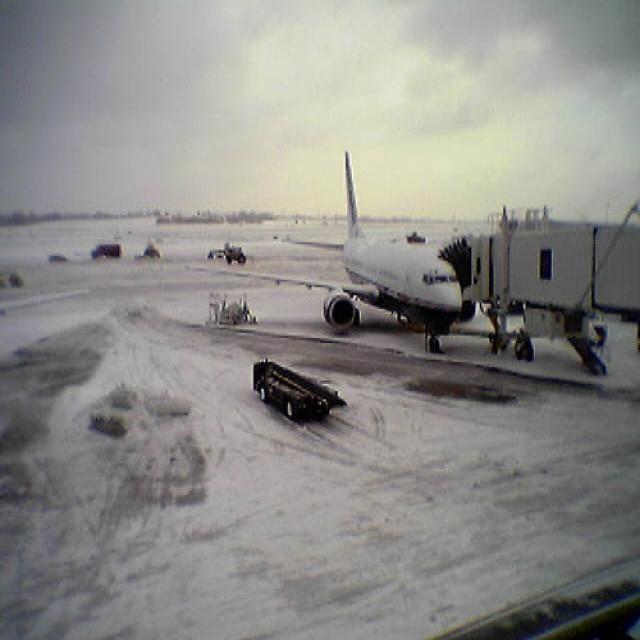aeroplane: (186, 153, 465, 356)
